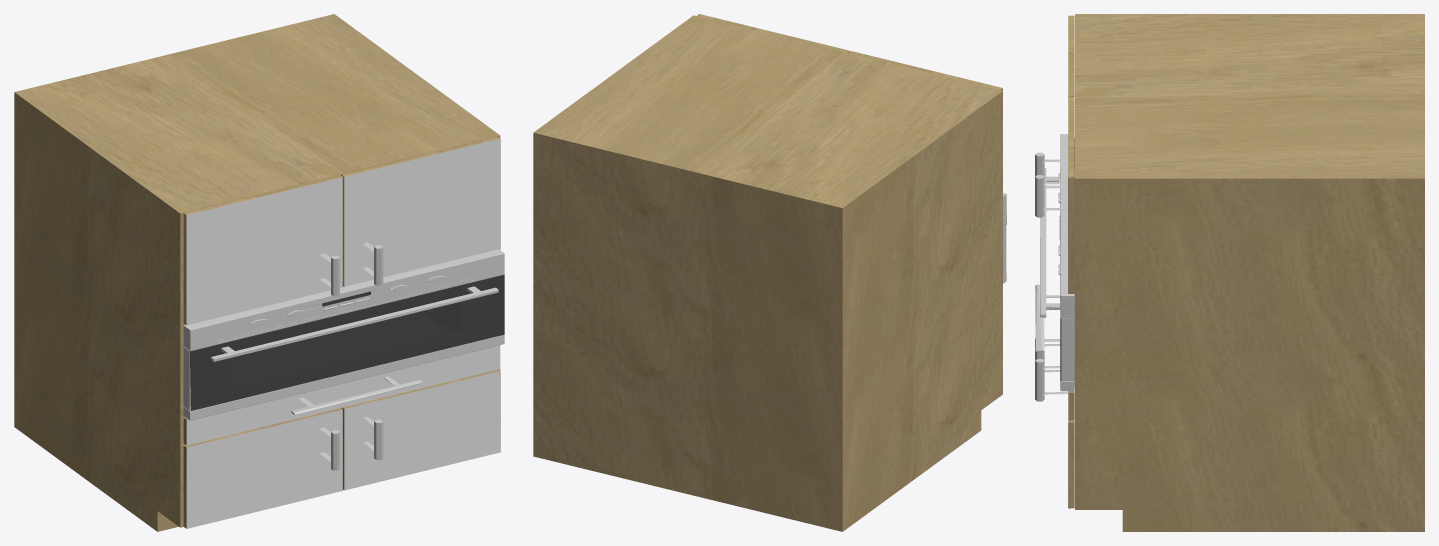
Rendered from sh-bs0-high-cabinet.glb.
3 renders of one model, left to right at view 1: azimuth 30°, elevation 25°; view 2: azimuth 150°, elevation 25°; view 3: azimuth 270°, elevation 25°, orthographic. The views are drawn at different scales.
Parts seen in each view (by area): view 1: Cube.011_Cube.018, electric_oven_embedable.002_Cube.006; view 2: Cube.011_Cube.018; view 3: Cube.011_Cube.018, electric_oven_embedable.002_Cube.006.
Boxes of the visible parts, x1=… form: Cube.011_Cube.018: x1=14, y1=14, x2=500, y2=531; electric_oven_embedable.002_Cube.006: x1=183, y1=249, x2=504, y2=420; Cube.011_Cube.018: x1=533, y1=14, x2=1002, y2=531; Cube.011_Cube.018: x1=1035, y1=14, x2=1424, y2=531; electric_oven_embedable.002_Cube.006: x1=1040, y1=134, x2=1074, y2=391.
Size of the model in its own units: 1 by 1 by 1.
Materials: 7 (1 with a texture image).
